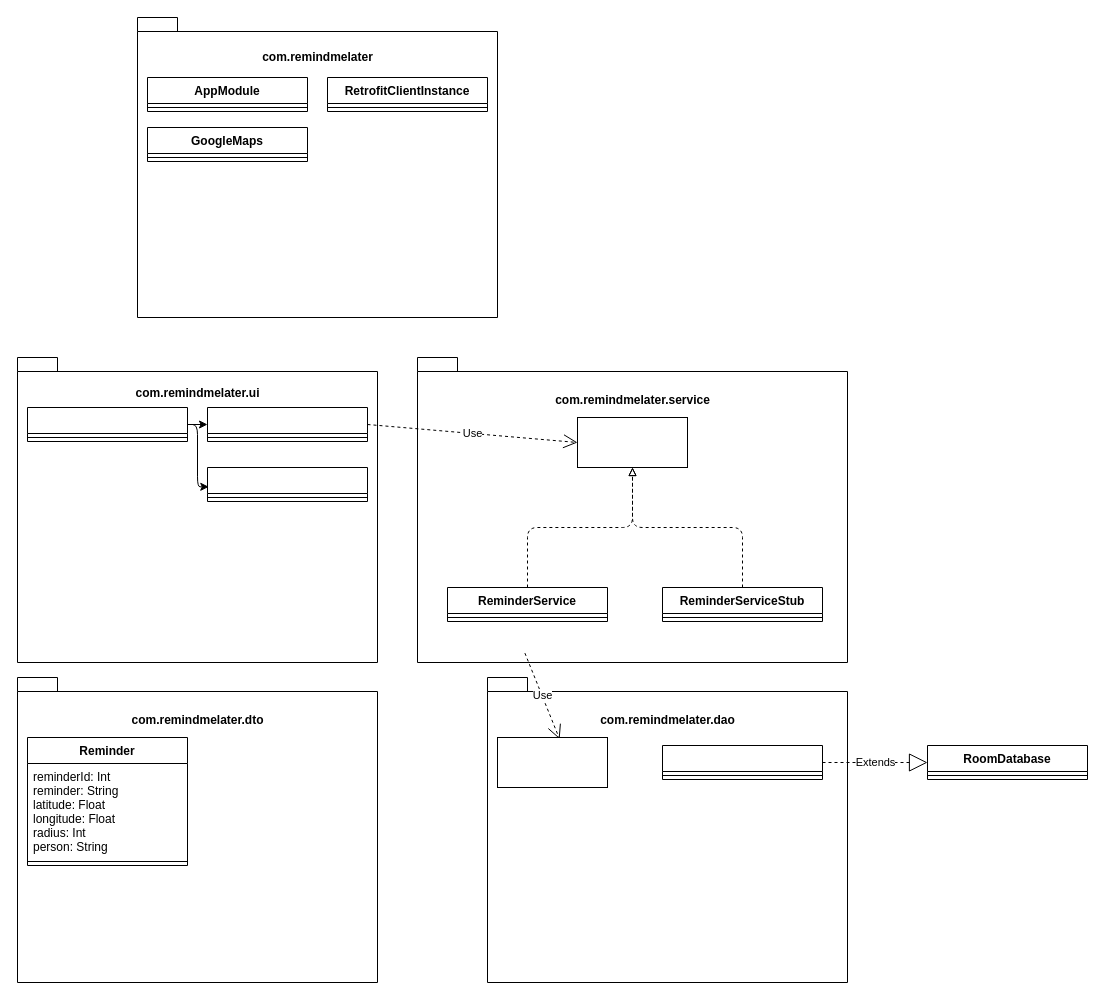
The diagram is 1105 pixels wide and 1000 high, and some of its shapes have lost their labels. Here are the shapes that lost their labels. From the top down, the centre of each, then its label:
the point at 107,424: MainActivity
the point at 287,424: ViewModel
the point at 632,442: «interface» IReminderService
the point at 287,484: ApplicationViewModel
the point at 552,762: «interface» IReminderDAO
the point at 742,762: ReminderDatabase
